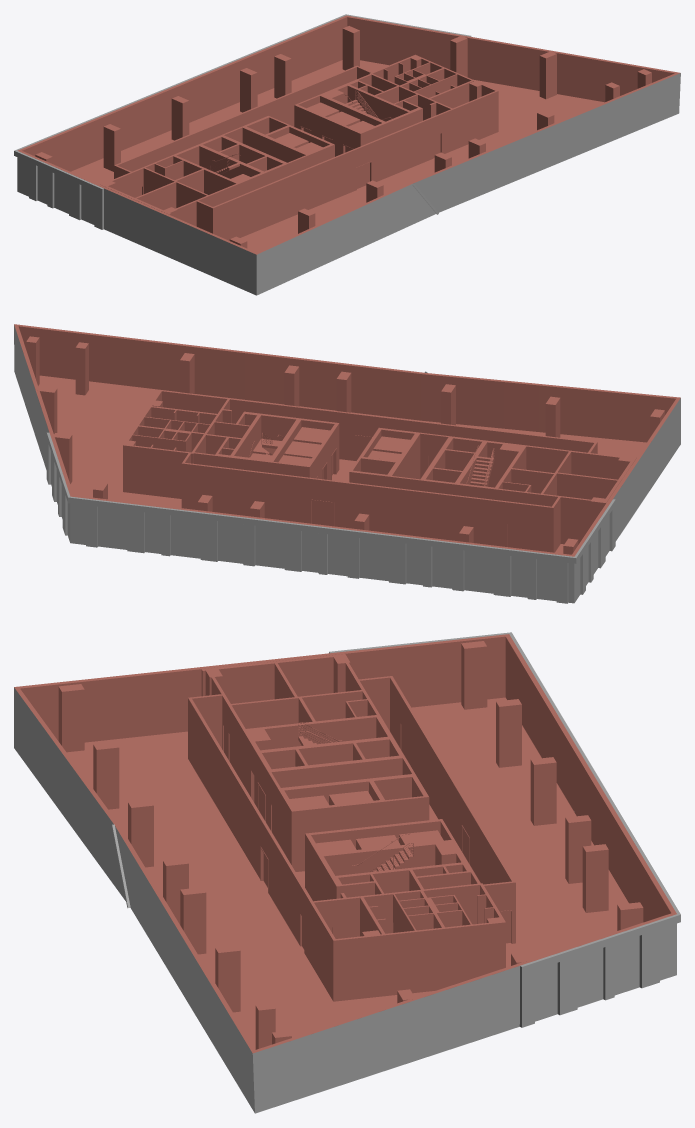
File: JLL_Ruya_Region3DModels_Riyadh_Derived_HeroBuildings_Building 305_Floors_KSA_04_04105_B29_Floor_T1_11.fbx
3 renders of one model, top to bottom at view 1: azimuth 30°, elevation 25°; view 2: azimuth 150°, elevation 25°; view 3: azimuth 270°, elevation 25°, orthographic. The views are drawn at different scales.
Visible parts, largest first — view 1: KSA_04_04105_B29_Floor_T1_11; view 2: KSA_04_04105_B29_Floor_T1_11; view 3: KSA_04_04105_B29_Floor_T1_11.
Boxes of the visible parts, left/top/right/bottom form: KSA_04_04105_B29_Floor_T1_11: left=14, top=14, right=680, bottom=295; KSA_04_04105_B29_Floor_T1_11: left=14, top=324, right=680, bottom=603; KSA_04_04105_B29_Floor_T1_11: left=14, top=632, right=680, bottom=1113.
Size of what is drawn, in the model's own units: 6049 by 509 by 4048.
